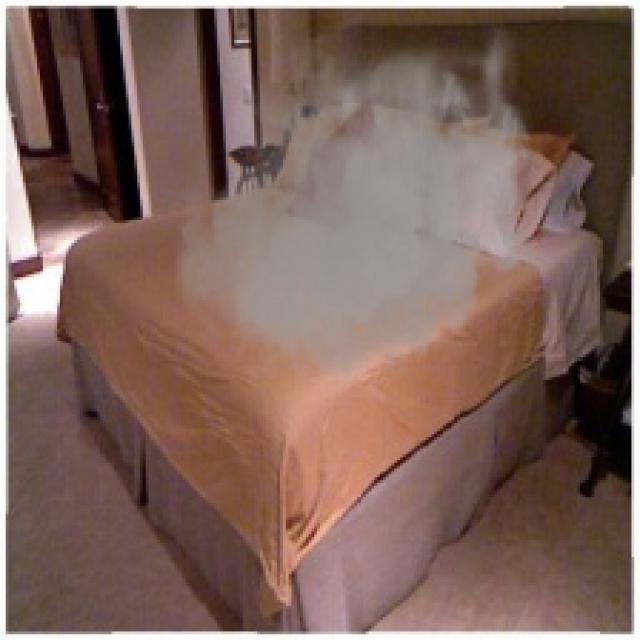smoke: (163, 11, 548, 403)
